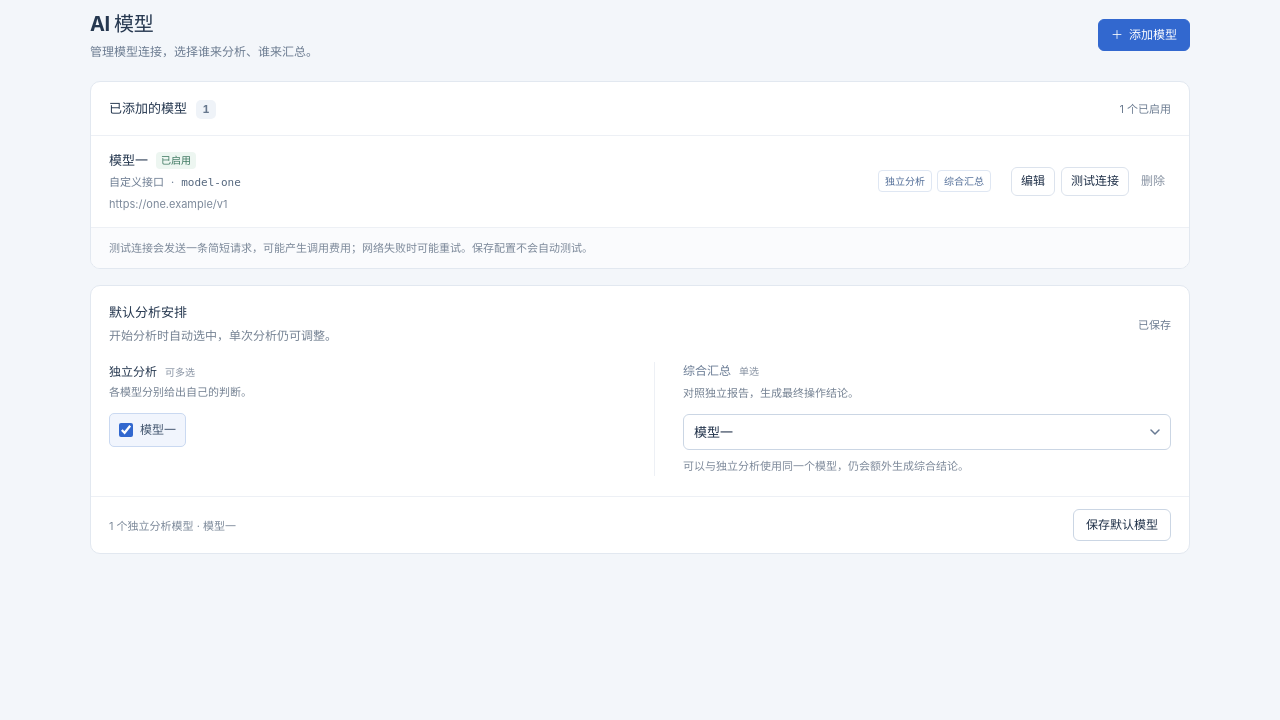
DeepSeek预设提供官方地址和关闭思考说明
Click the button with aria-label "编辑模型一": (1033, 181) 1011,167 -> 1055,196
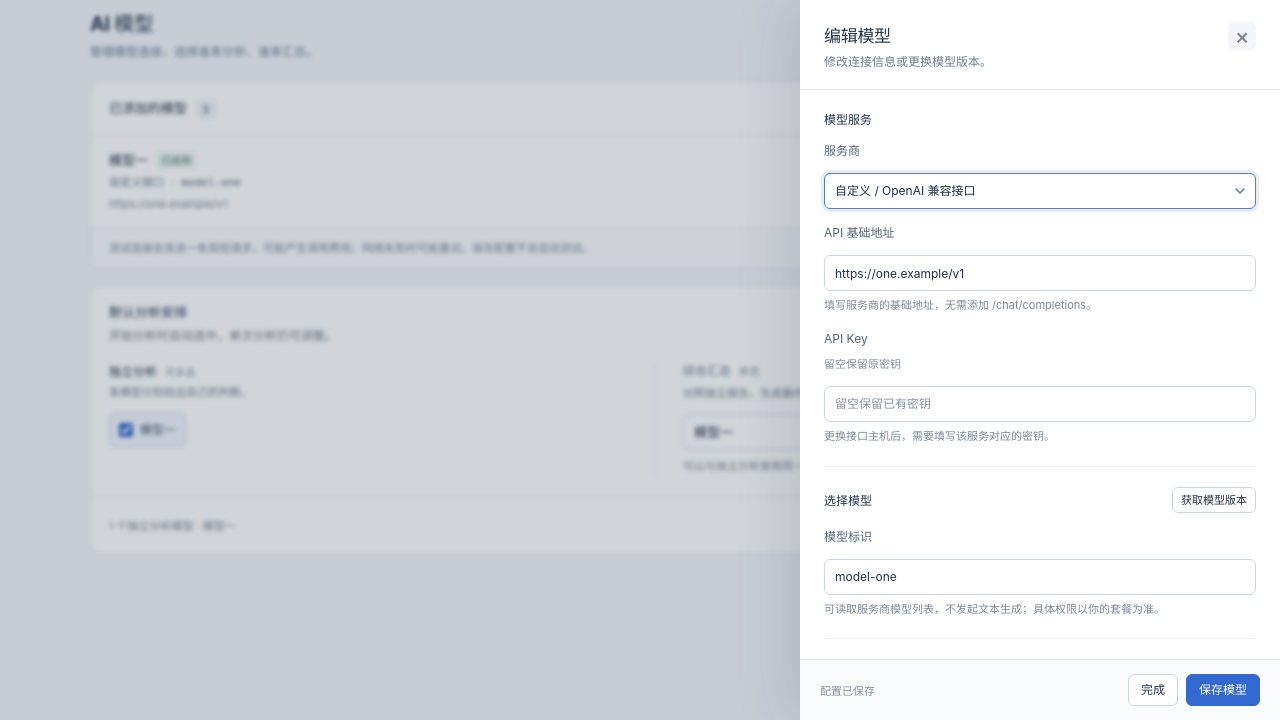
Select "DeepSeek" in the dropdown named "服务商": (1040, 191) 824,173 -> 1256,209
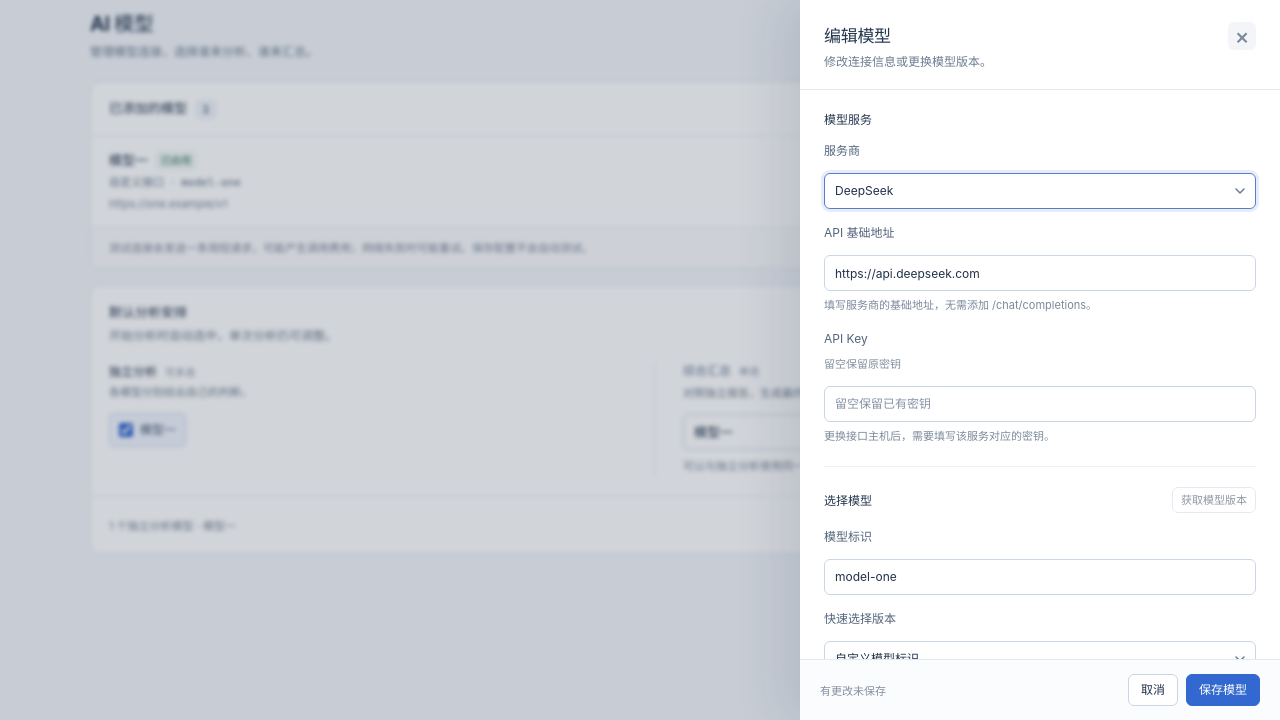
Now the field named "API 基础地址" holds "https://api.deepseek.com", box 824,255 -> 1256,291
